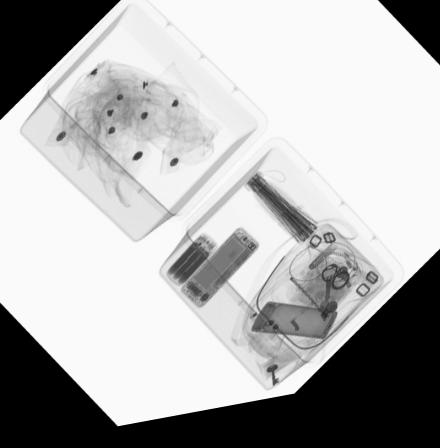Powerbank: (162, 238, 220, 296)
